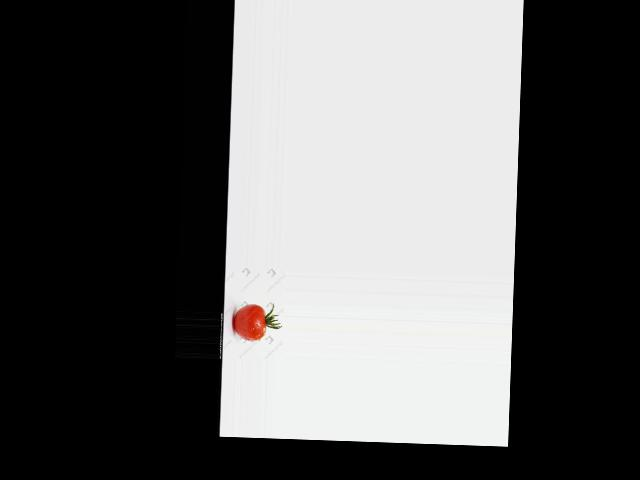tomato: (233, 303, 266, 340)
